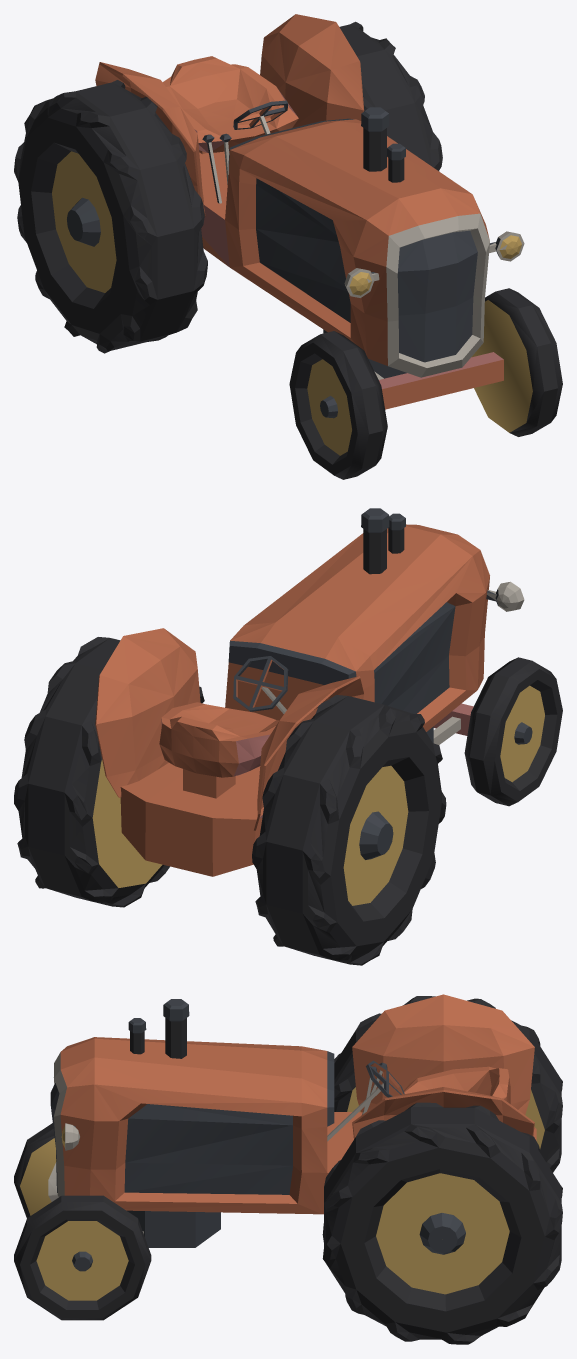
Rendered from tractor.glb.
3 renders of one model, top to bottom at view 1: azimuth 30°, elevation 25°; view 2: azimuth 150°, elevation 25°; view 3: azimuth 270°, elevation 25°, orthographic. The views are drawn at different scales.
Visible parts, largest first — view 1: tractor; view 2: tractor; view 3: tractor.
Part boxes in pixels (bbox=[...]): tractor: bbox=[14, 14, 562, 479]; tractor: bbox=[14, 508, 562, 965]; tractor: bbox=[14, 994, 562, 1344].
Bounding box in the file's own units: 2.42 × 2.22 × 4.
